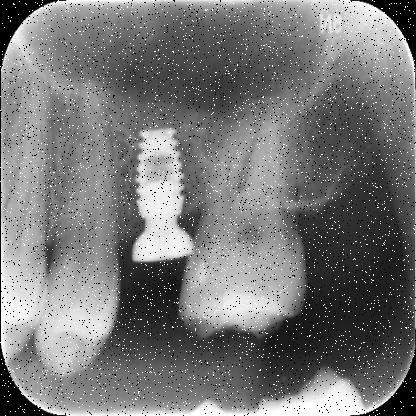Bicon: (135, 124, 189, 224)
